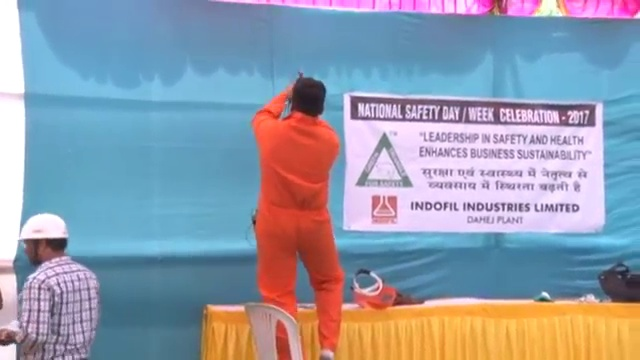helmet: (16, 210, 70, 243)
helmet_off: (291, 77, 327, 118)
helmet_on: (14, 211, 70, 263)
person: (245, 76, 345, 360), (1, 210, 103, 360)
